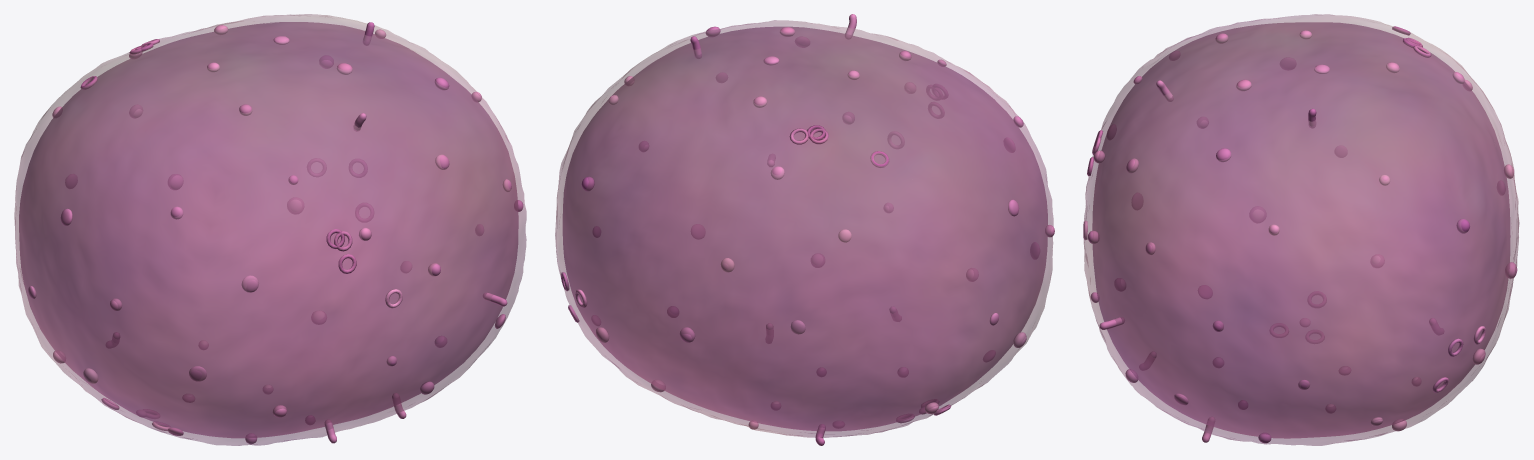
The model's file is membrane-animal.glb.
3 renders of one model, left to right at view 1: azimuth 30°, elevation 25°; view 2: azimuth 150°, elevation 25°; view 3: azimuth 270°, elevation 25°, orthographic. The views are drawn at different scales.
Parts seen in each view (by area): view 1: membrane-animal-membrane, membrane-animal-proteins; view 2: membrane-animal-membrane, membrane-animal-proteins; view 3: membrane-animal-membrane, membrane-animal-proteins.
Part boxes in pixels (box(x1,y1,x2,y2)): membrane-animal-membrane: box(14, 14, 526, 445); membrane-animal-proteins: box(28, 22, 523, 444); membrane-animal-membrane: box(555, 20, 1053, 437); membrane-animal-proteins: box(561, 14, 1054, 445); membrane-animal-membrane: box(1083, 14, 1519, 445); membrane-animal-proteins: box(1083, 26, 1517, 443).
Size of what is drawn, in the model's own units: 22.08 by 17.11 by 19.28.
